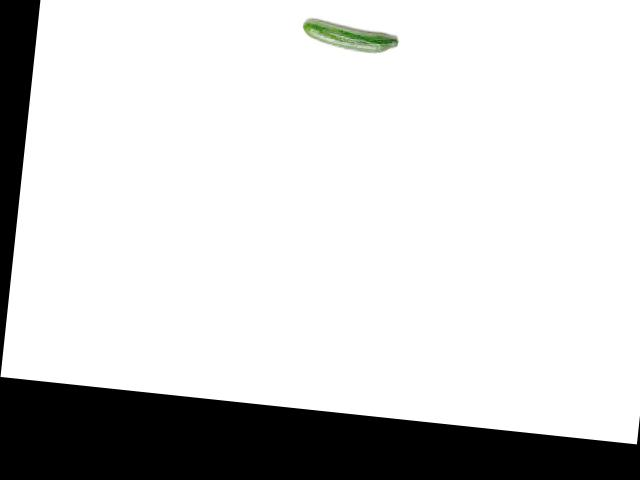cucumber: (300, 17, 399, 55)
